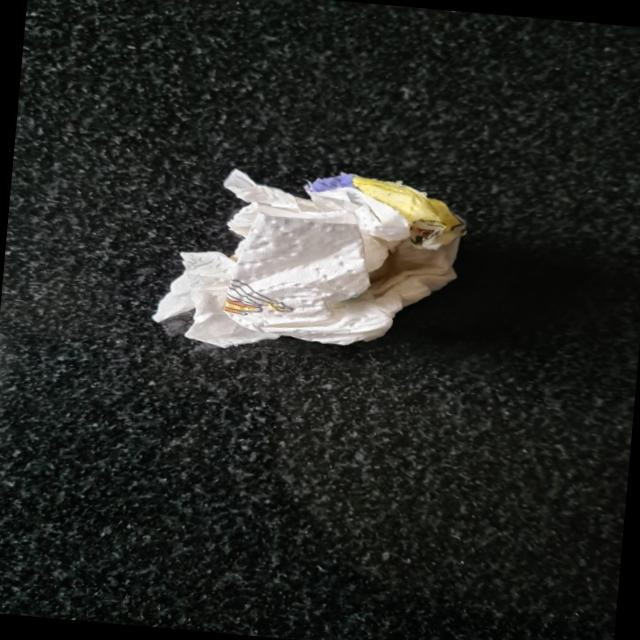organic waste: (138, 154, 476, 368)
